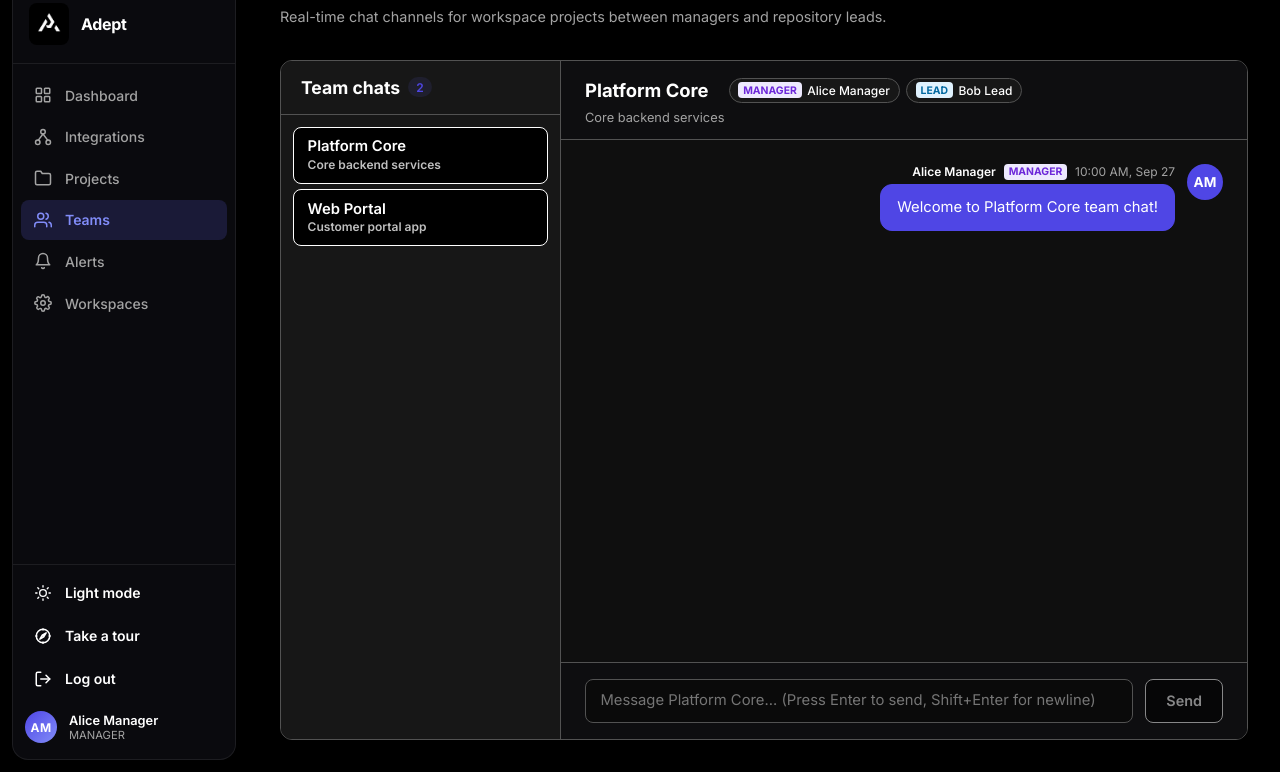
it: TeamsPage › sends a new chat message when user submits form
(page scrolled)
Type "Let us review PR #42 today" into the text box with placeholder "Message Platform Core" at (859, 701), box [585,679,1133,723]
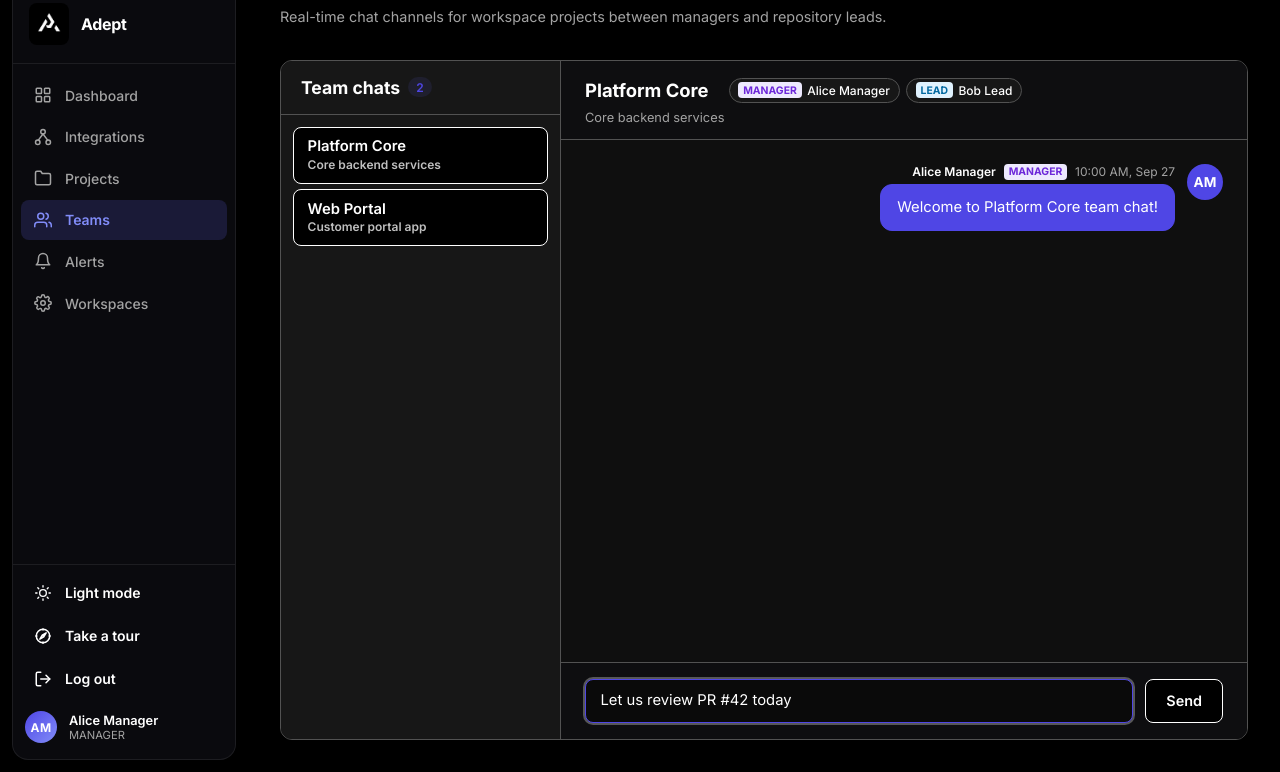
Click the button "Send" at (1184, 701), box [1145,679,1223,723]
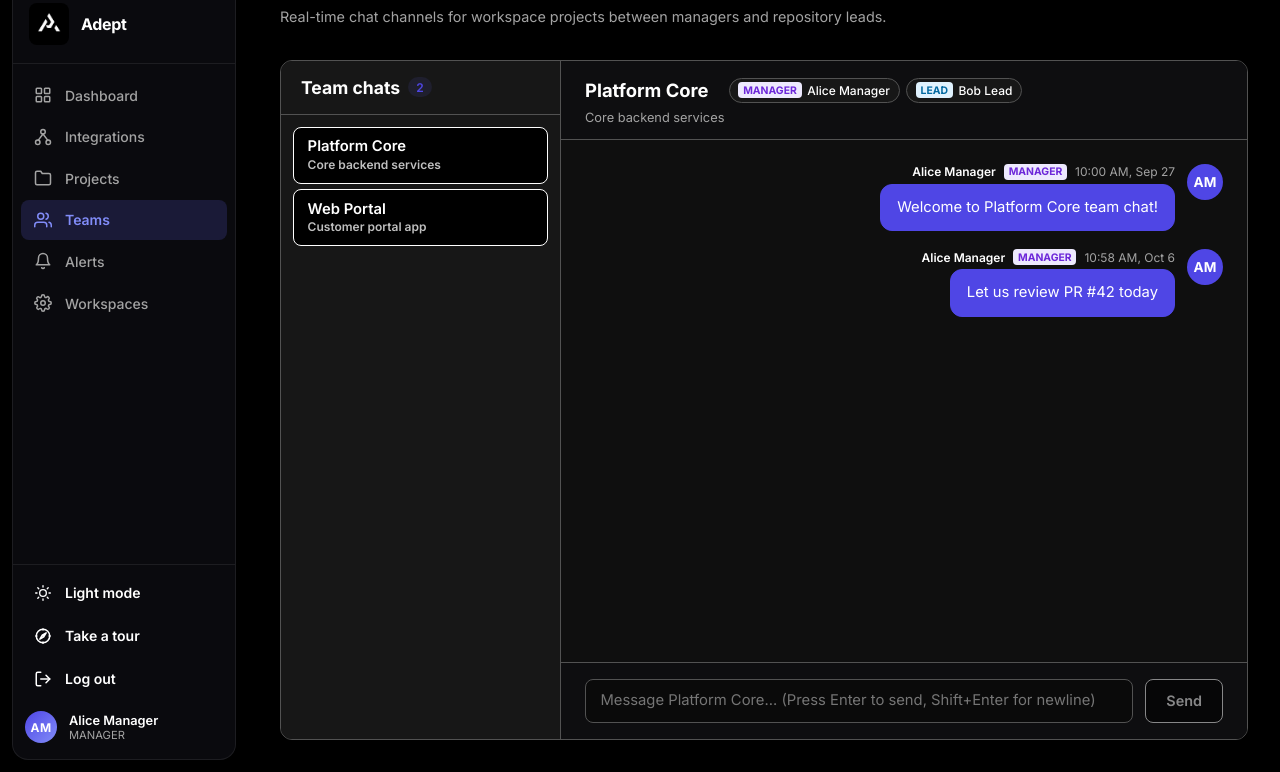
Check: the text "Let us review PR #42 today" is shown, box [950,269,1175,317]
